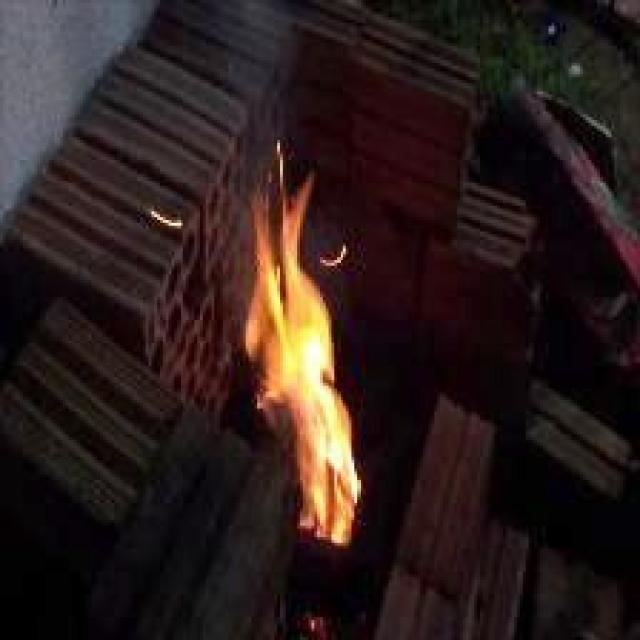fire: (231, 164, 366, 576)
